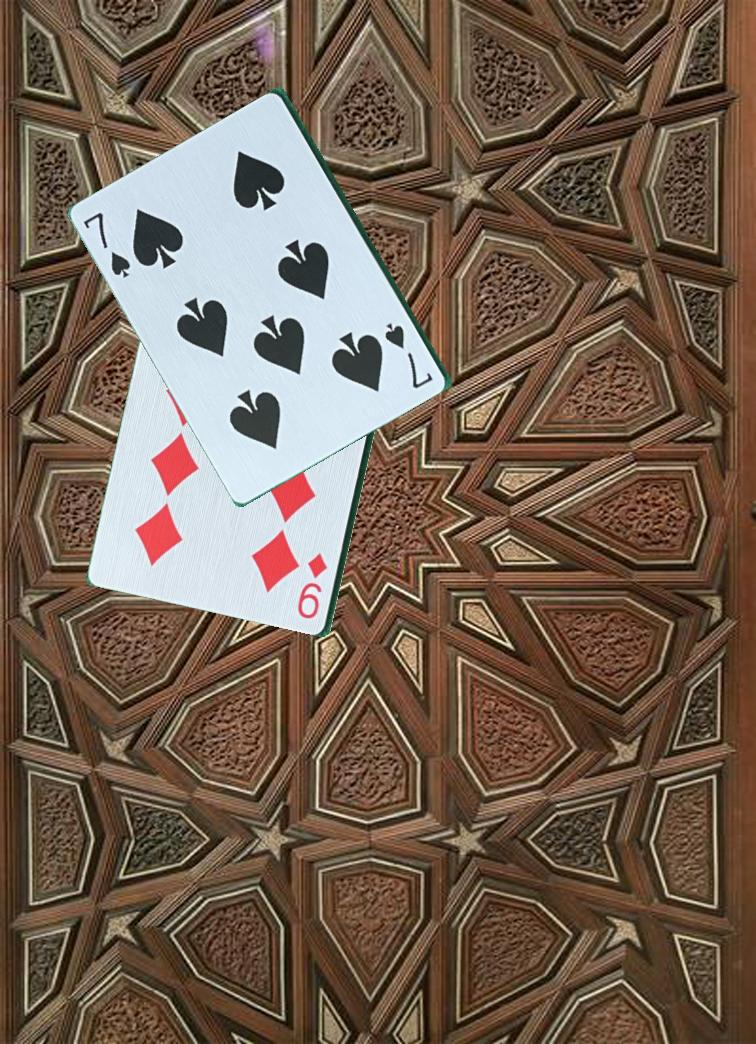7s: (380, 318, 435, 391), (79, 208, 133, 281)
9d: (295, 550, 331, 623)
